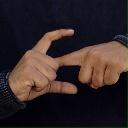E: (11, 26, 121, 104)
